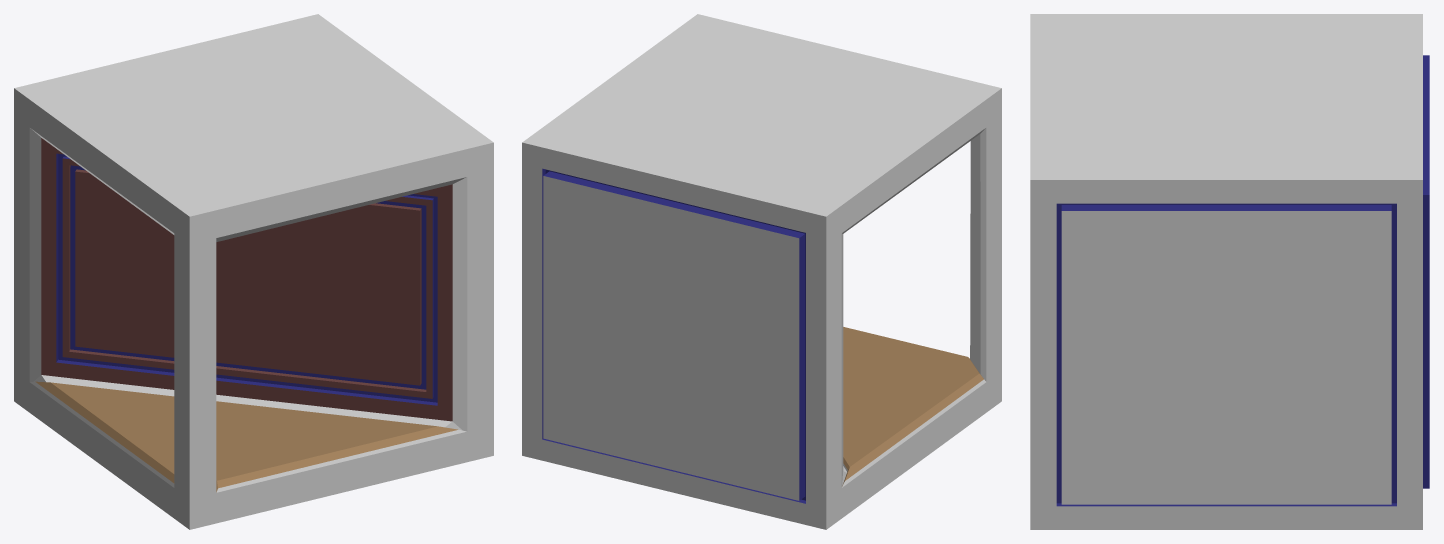
The picture shows the model from 3 angles, left to right: view 1: azimuth 30°, elevation 25°; view 2: azimuth 150°, elevation 25°; view 3: azimuth 270°, elevation 25°; orthographic projection. The views are drawn at different scales.
Parts seen in each view (by area): view 1: floor10B; view 2: floor10B; view 3: floor10B.
Boxes of the visible parts, <box> form: floor10B: <box>14,14,493,529</box>; floor10B: <box>522,14,1001,529</box>; floor10B: <box>1030,14,1429,529</box>.
Size of the model in its own units: 198 by 192 by 198.
